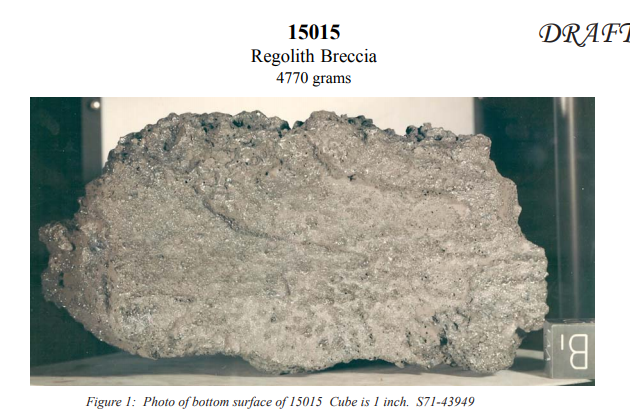Breccia: (61, 118, 543, 374), (338, 122, 543, 368), (162, 185, 365, 310)
